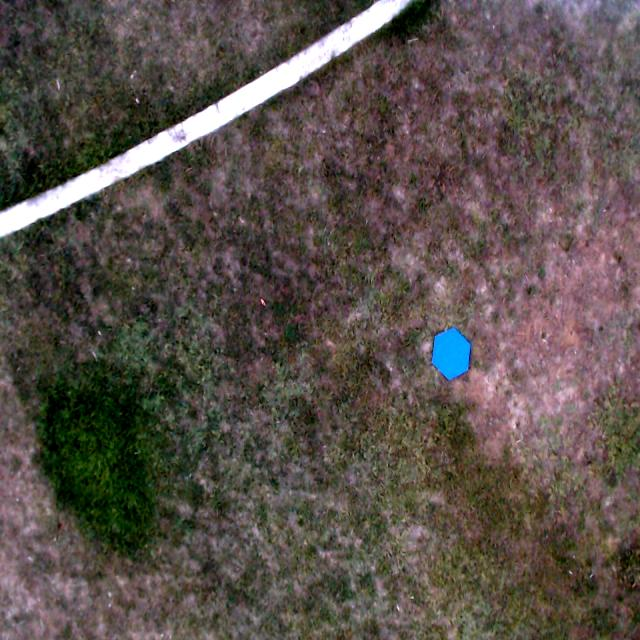blue_hexagon: (433, 329, 470, 380)
